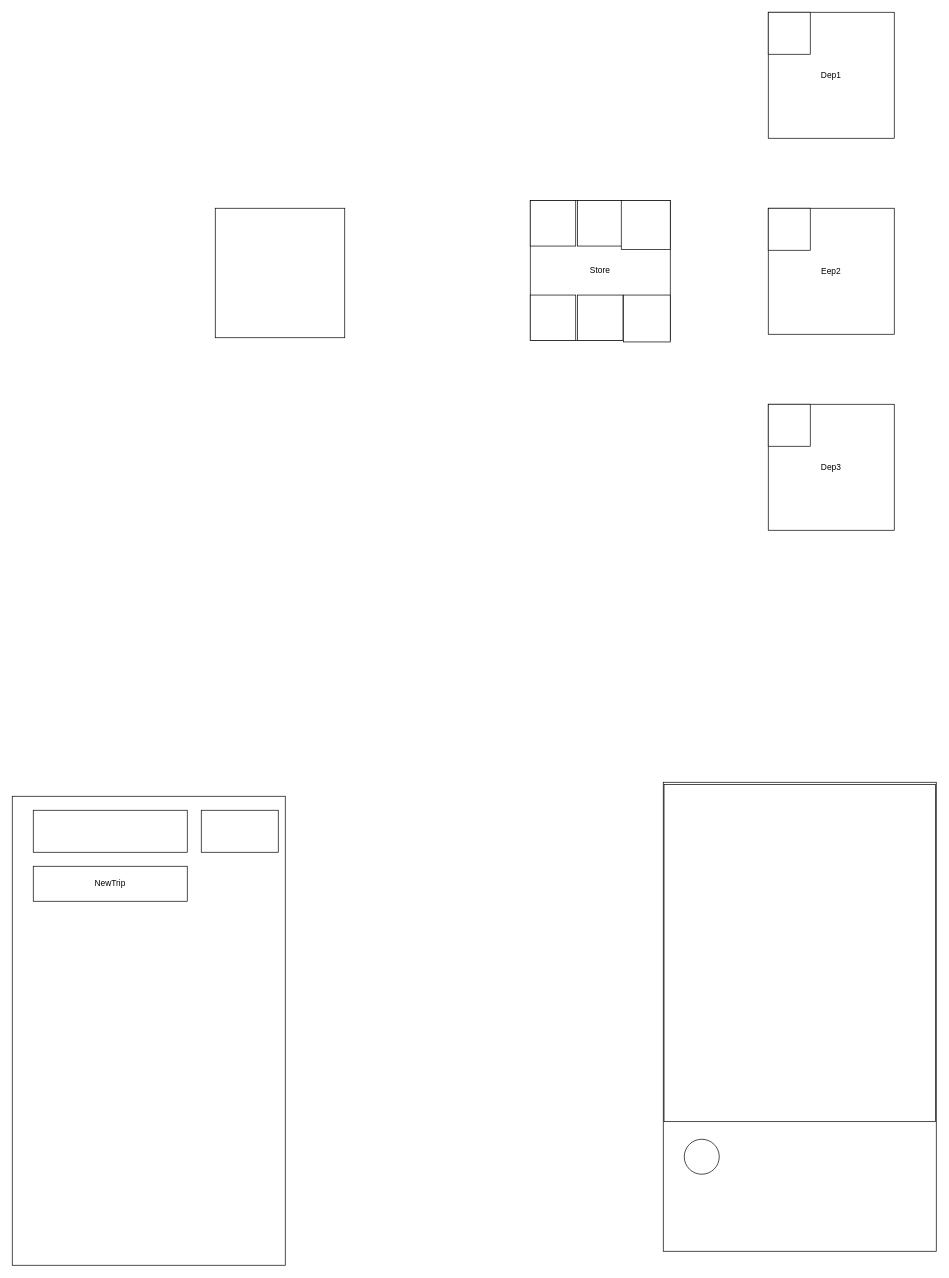
Image size: 949x1278. Some labels were removed from this diagram. Here are the shapes that lost their labels. From the top down, the centre of each, then its label:
point (280, 273): FinanceDep
point (239, 831): Join Team
point (799, 953): Map
